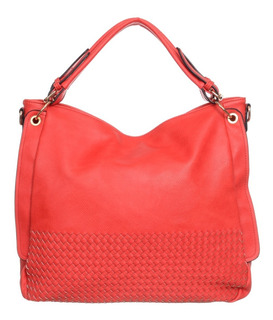cartera: (14, 17, 261, 304)
